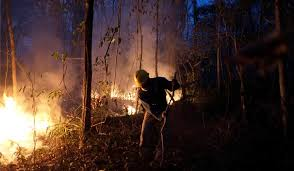fire: (1, 93, 57, 151)
smoke: (48, 17, 131, 93)
